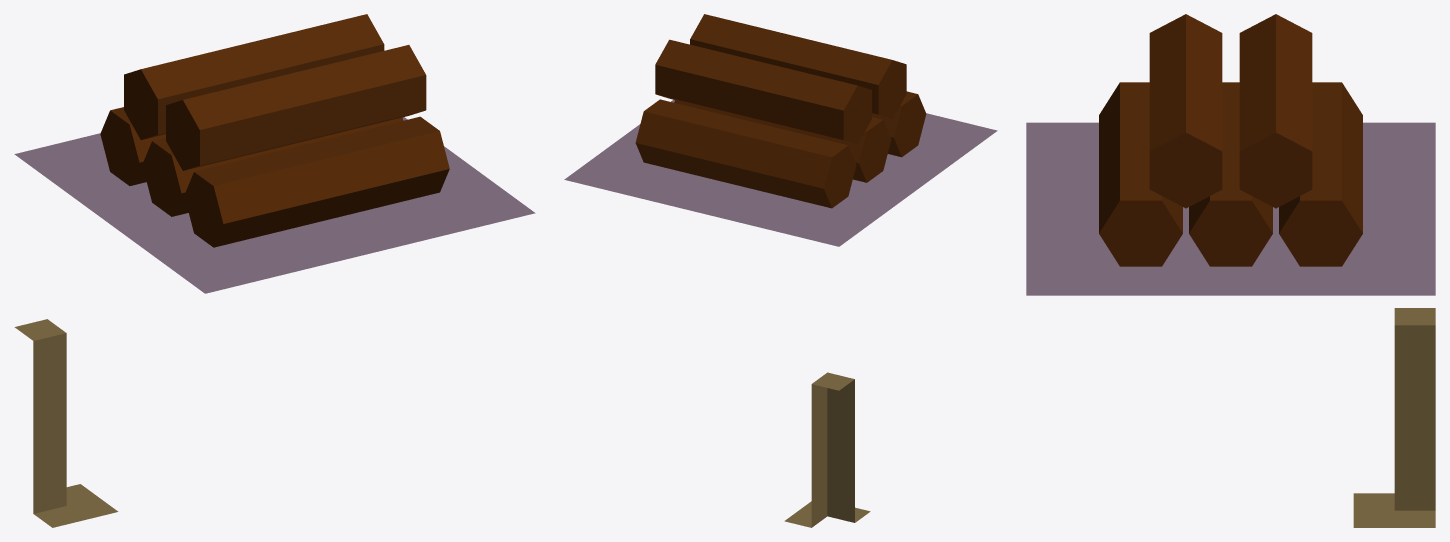
Rendered from Inner_Corner_Wall_Roof_Outer_Corner.obj.
3 renders of one model, left to right at view 1: azimuth 30°, elevation 25°; view 2: azimuth 150°, elevation 25°; view 3: azimuth 270°, elevation 25°, orthographic. The views are drawn at different scales.
Parts seen in each view (by area): view 1: Inner_Corner_Wall_Roof_Outer_Corner; view 2: Inner_Corner_Wall_Roof_Outer_Corner; view 3: Inner_Corner_Wall_Roof_Outer_Corner.
Part boxes in pixels (bbox=[...]): Inner_Corner_Wall_Roof_Outer_Corner: bbox=[14, 14, 535, 527]; Inner_Corner_Wall_Roof_Outer_Corner: bbox=[564, 14, 997, 527]; Inner_Corner_Wall_Roof_Outer_Corner: bbox=[1026, 14, 1435, 527].
Size of the model in its own units: 1 by 1.37 by 1.
